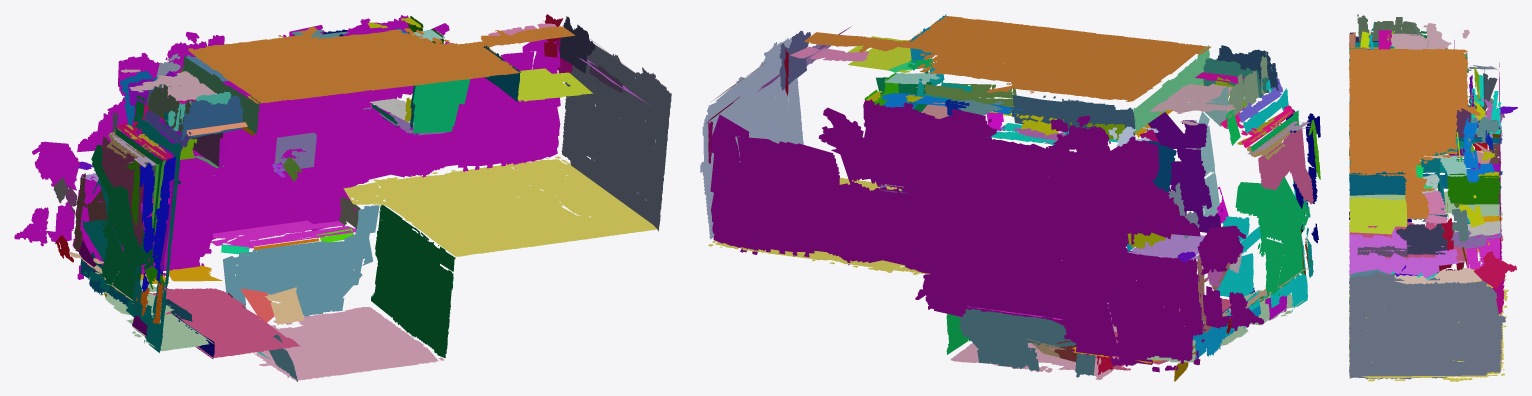
File: planarsplat_scene057.glb
3 renders of one model, left to right at view 1: azimuth 30°, elevation 25°; view 2: azimuth 150°, elevation 25°; view 3: azimuth 270°, elevation 25°, orthographic. The views are drawn at different scales.
Bounding box in the file's own units: 7.67 × 4.12 × 2.54.
